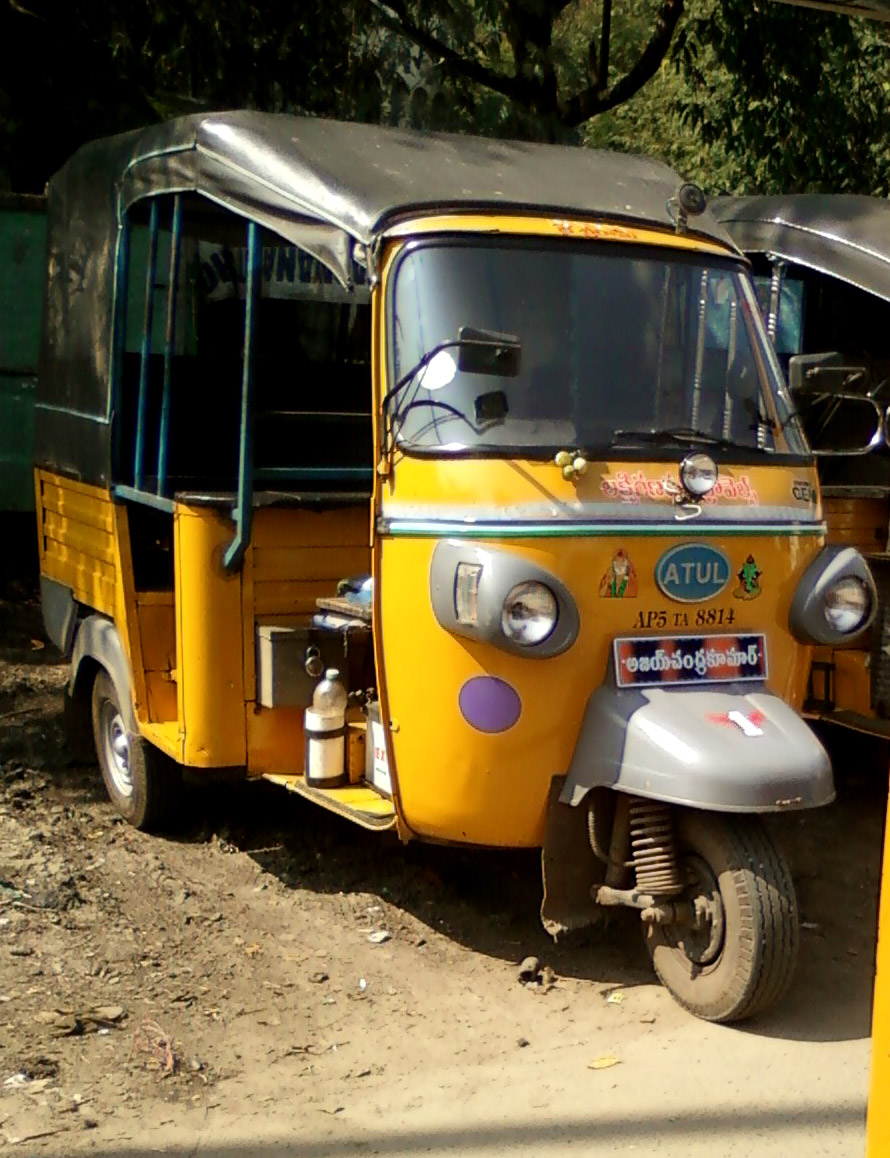auto: (14, 95, 879, 1088)
numberplate: (626, 602, 757, 637)
